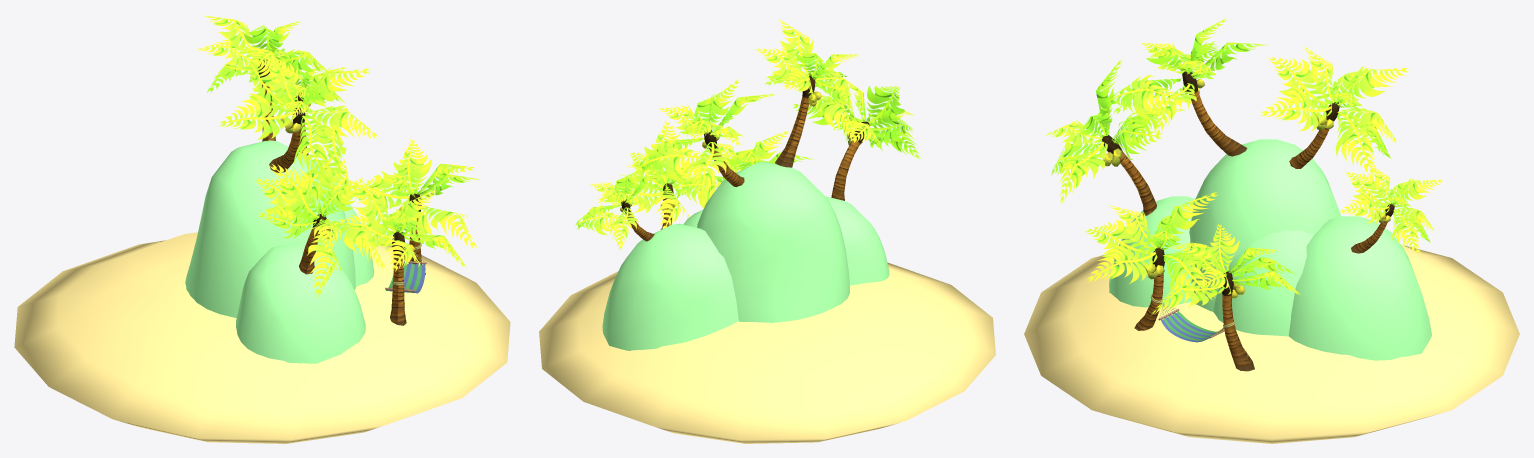
File: Island.glb
The picture shows the model from 3 angles, left to right: view 1: azimuth 30°, elevation 25°; view 2: azimuth 150°, elevation 25°; view 3: azimuth 270°, elevation 25°; orthographic projection. The views are drawn at different scales.
Visible parts, largest first — view 1: Cube; view 2: Cube; view 3: Cube.
Boxes of the visible parts, x1,y1,x2,y2 form: Cube: [14, 15, 510, 443]; Cube: [539, 19, 995, 443]; Cube: [1024, 18, 1519, 443].
Size of the model in its own units: 42.77 by 31.65 by 42.77.
Materials: 5 (3 with a texture image).
